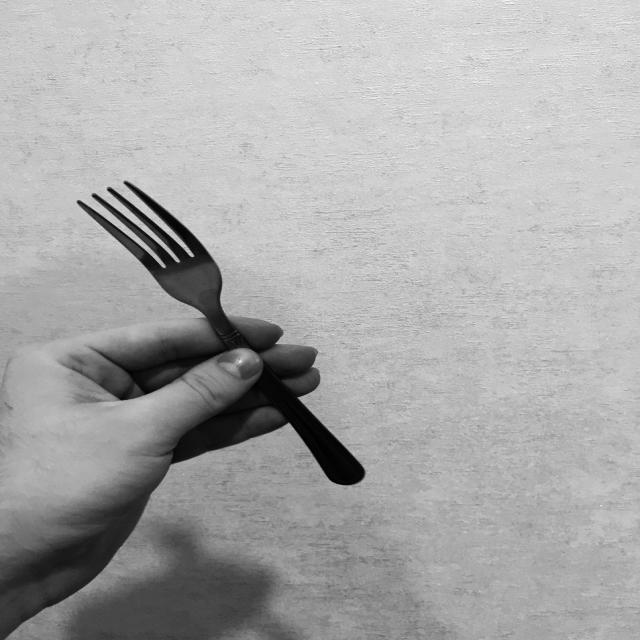fork: (71, 178, 368, 491)
